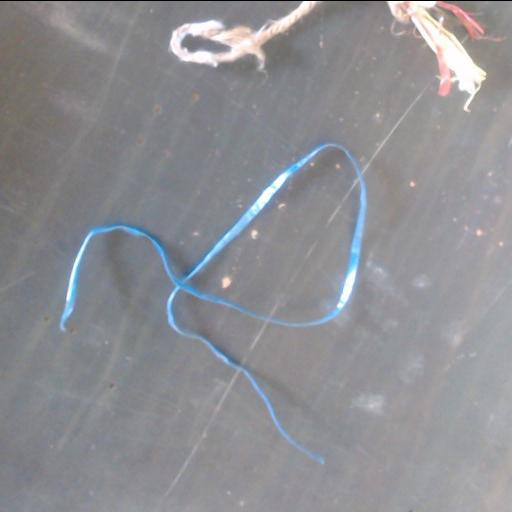conveyor belt: (0, 1, 511, 512)
jute: (387, 1, 496, 110), (170, 1, 321, 69)
thread: (61, 143, 366, 462)
